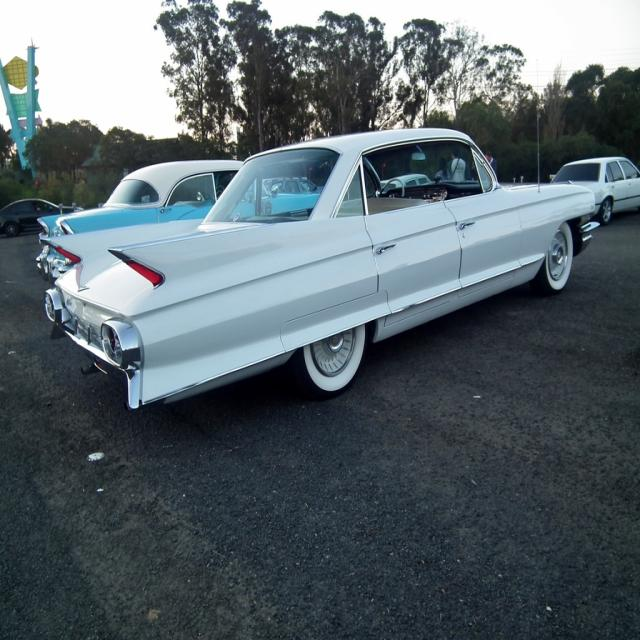car: (37, 135, 594, 411)
